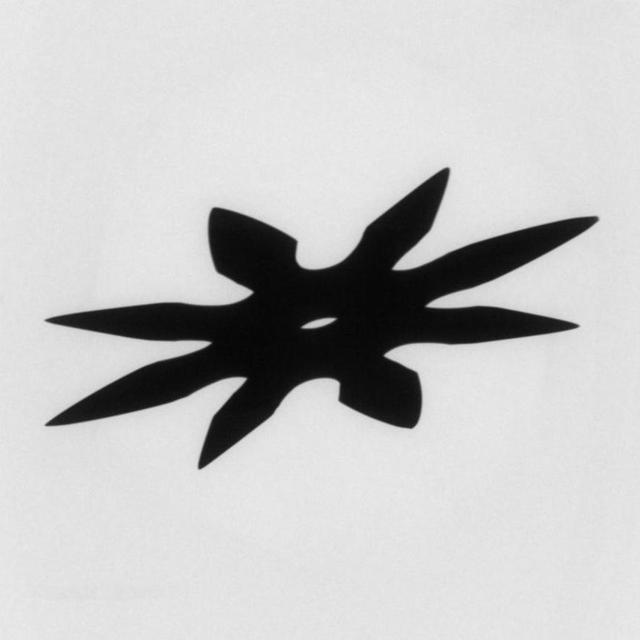shuriken: (36, 166, 607, 474)
